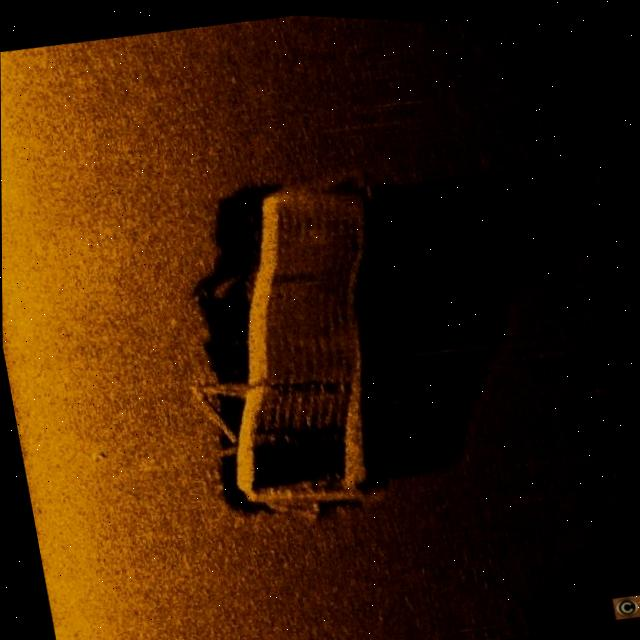shipwreck: (168, 155, 418, 524)
